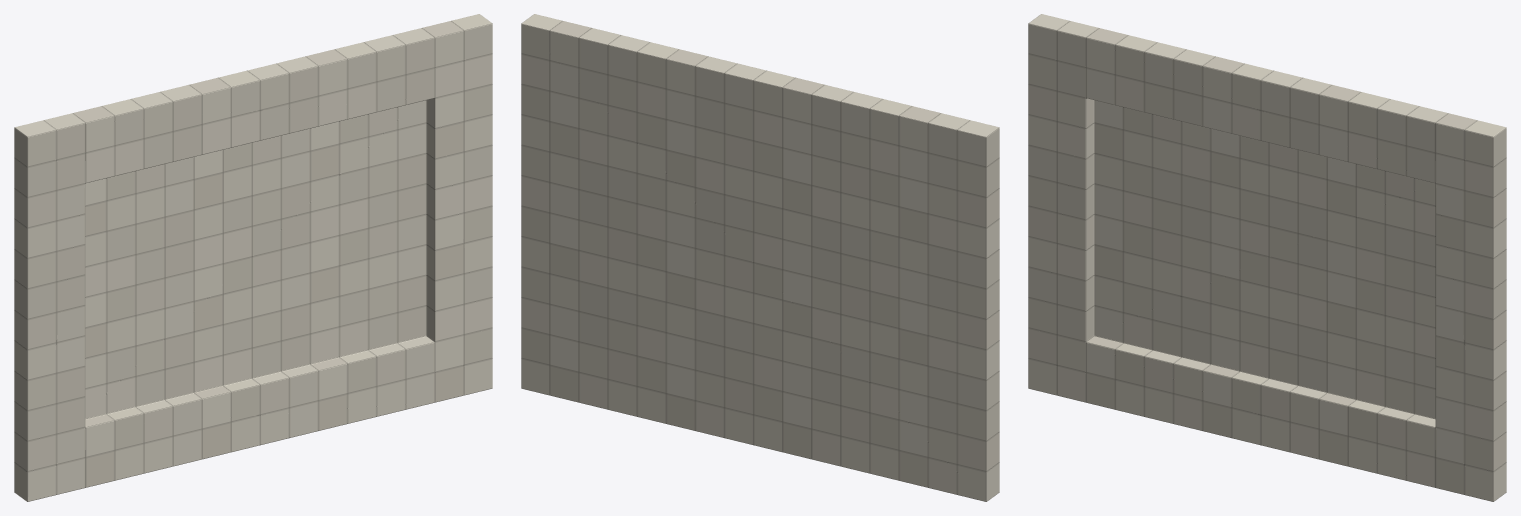
Rendered from MOD_12_Wall_Recessed.glb.
The picture shows the model from 3 angles, left to right: view 1: azimuth 30°, elevation 25°; view 2: azimuth 150°, elevation 25°; view 3: azimuth 330°, elevation 25°; orthographic projection.
Visible parts, largest first — view 1: MOD_12_Wall_Recessed_Export; view 2: MOD_12_Wall_Recessed_Export; view 3: MOD_12_Wall_Recessed_Export.
Boxes of the visible parts, left/top/right/bottom form: MOD_12_Wall_Recessed_Export: left=14, top=14, right=492, bottom=501; MOD_12_Wall_Recessed_Export: left=521, top=14, right=999, bottom=501; MOD_12_Wall_Recessed_Export: left=1028, top=14, right=1506, bottom=501.
Size of the model in its own units: 4 by 3 by 0.2.
1 material, 1 textured.
